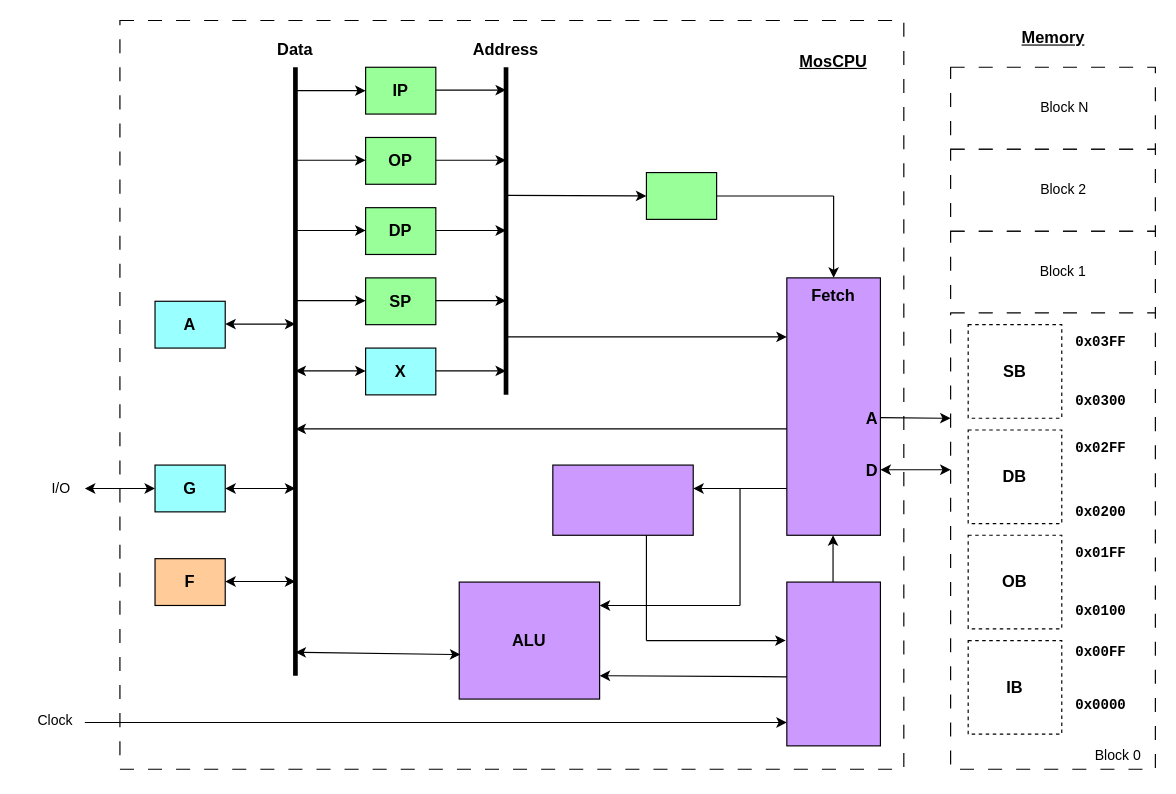
Some shapes in this 1176 by 794 pixel diagram are drawn without their labels. The shapes that lost their labels are listed below. From the top down, each one's centre as x and y in pixels, then its label:
At pixel 681 195: "BP".
At pixel 622 499: "Instruction Decoder".
At pixel 833 663: "Control SM".
